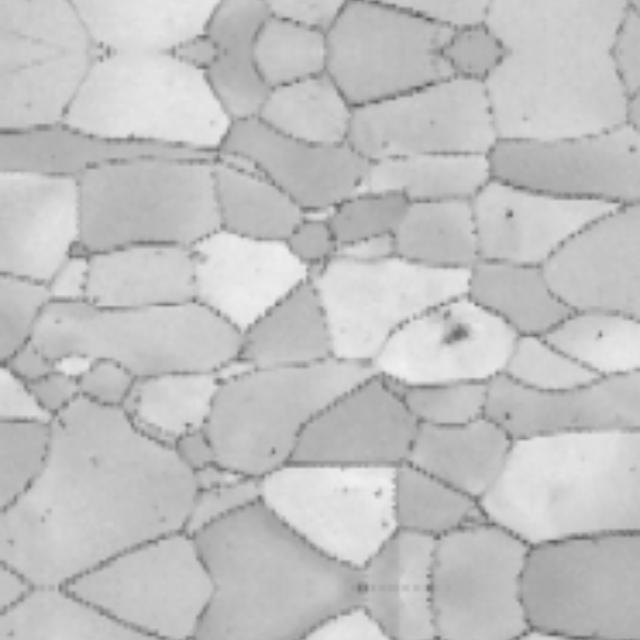good_void: (441, 327, 470, 352), (373, 487, 385, 503), (442, 310, 454, 324), (596, 331, 608, 345), (505, 209, 516, 223), (184, 422, 196, 432), (268, 447, 278, 458)
